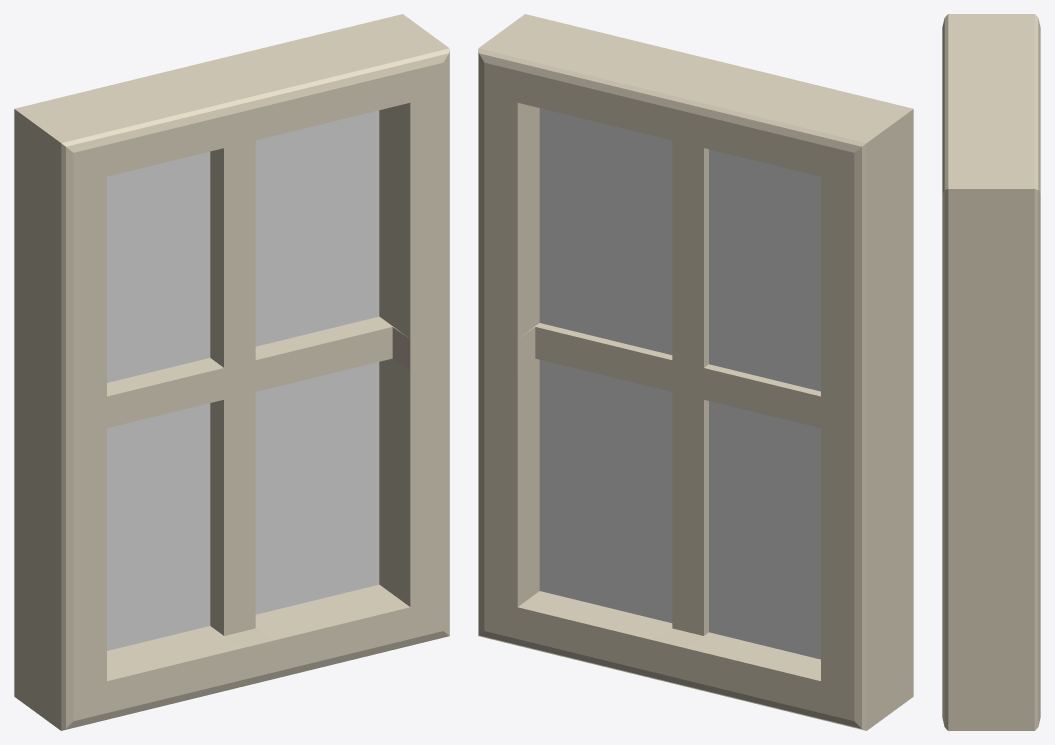
File: small_window.fbx
The picture shows the model from 3 angles, left to right: view 1: azimuth 30°, elevation 25°; view 2: azimuth 150°, elevation 25°; view 3: azimuth 270°, elevation 25°; orthographic projection. The views are drawn at different scales.
Visible parts, largest first — view 1: small_window, Plane.004; view 2: small_window, Plane.004; view 3: small_window.
Boxes of the visible parts, bbox=[...] form: small_window: bbox=[14, 14, 449, 730]; Plane.004: bbox=[107, 110, 379, 650]; small_window: bbox=[478, 14, 913, 730]; Plane.004: bbox=[539, 108, 820, 659]; small_window: bbox=[942, 14, 1040, 730].
Bounding box in the file's own units: 113 × 163 × 26.68.
